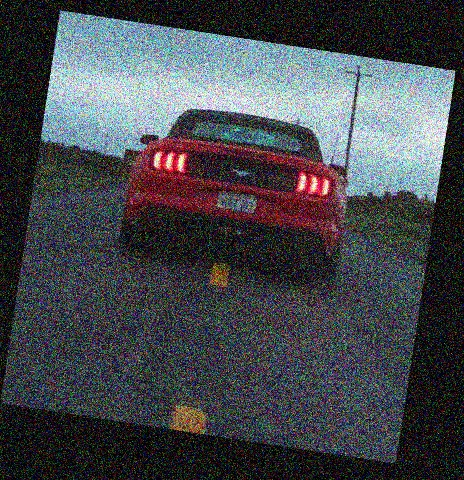car: (89, 76, 377, 301)
